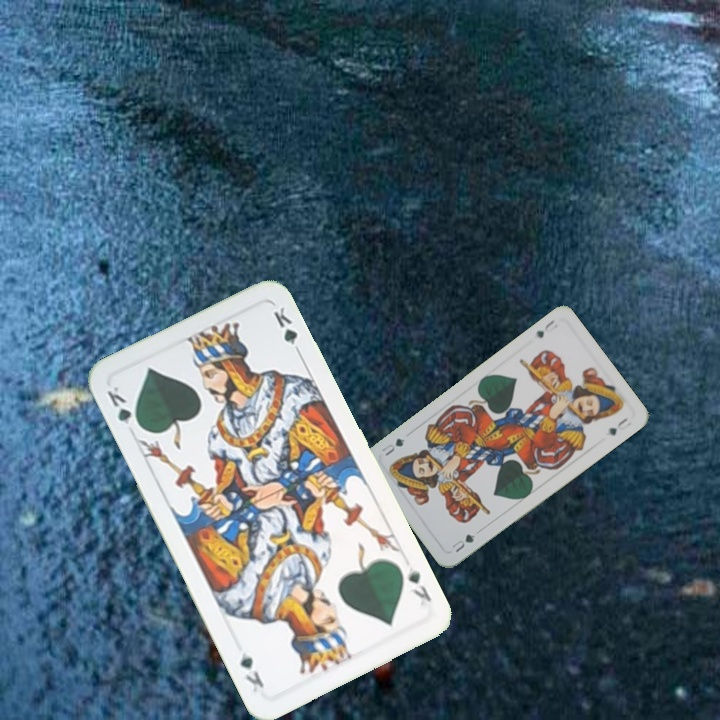GK: (103, 382, 144, 432), (403, 563, 435, 609)
GU: (448, 530, 478, 555), (532, 316, 561, 341)
